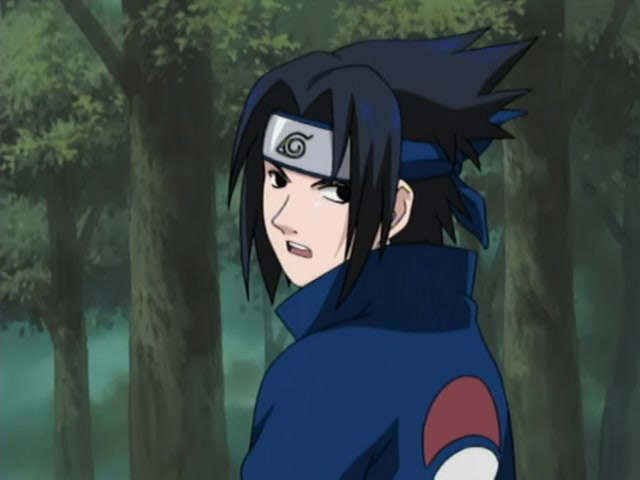sasuke: (259, 105, 433, 287)
